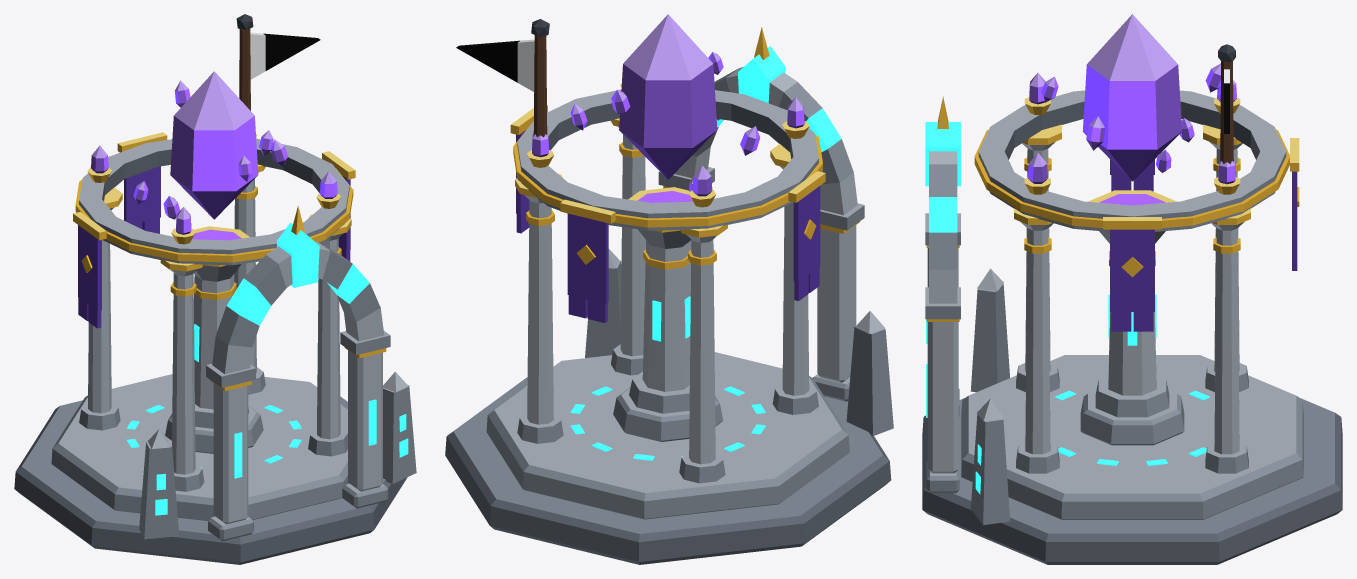
File: Bld_Enchanter_L2.fbx
3 views of the same model, side by side, from view 1: azimuth 30°, elevation 25°; view 2: azimuth 150°, elevation 25°; view 3: azimuth 270°, elevation 25° (orthographic). The views are drawn at different scales.
Parts seen in each view (by area): view 1: Bld_Enchanter_L2; view 2: Bld_Enchanter_L2; view 3: Bld_Enchanter_L2.
Boxes of the visible parts, x1,y1,x2,y2 form: Bld_Enchanter_L2: (14,14,416,564); Bld_Enchanter_L2: (445,14,893,564); Bld_Enchanter_L2: (922,14,1342,564).
Size of the model in its own units: 3.52 by 4.38 by 3.52.
